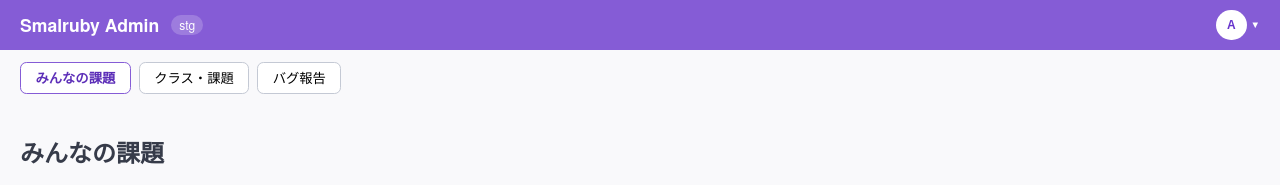
Test case: App auth flow › an allowlisted admin reaches the dashboard
Expected: the text with test id "admin-avatar-initials" reads "A", [1227,18,1236,32]
Click the button with test id "admin-avatar-button" at (1238, 25), box [1216,10,1260,40]
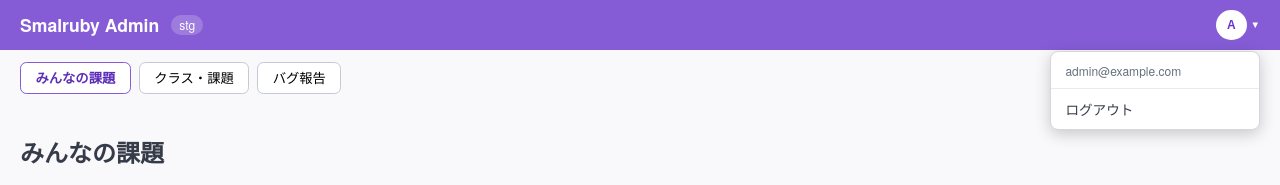
Expected: the text with test id "admin-avatar-email" reads "admin@example.com", [1065,62,1181,79]
